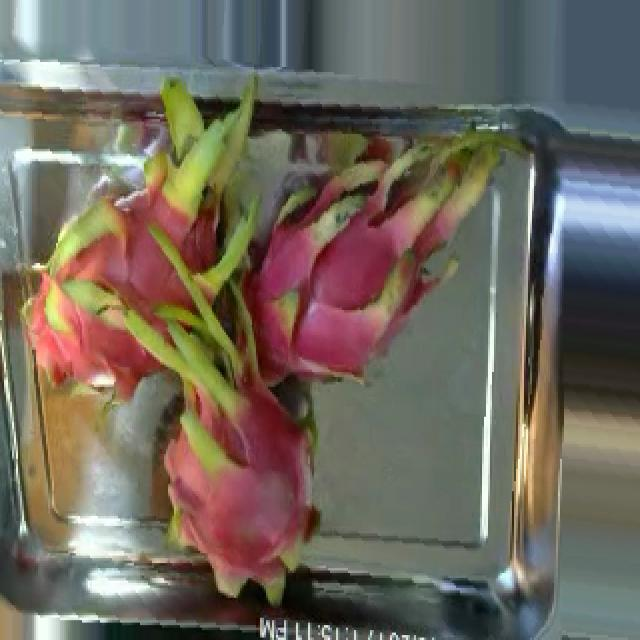Fruit: (0, 571, 48, 640)
